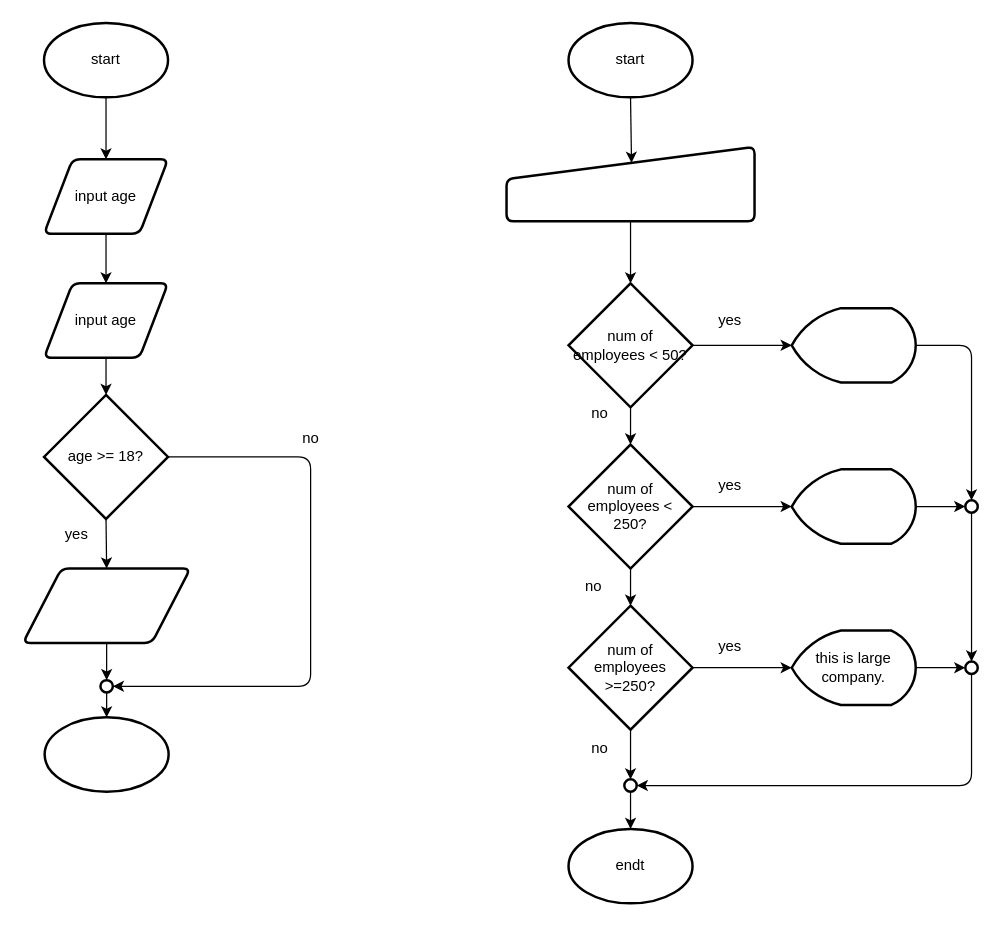
Image size: 1003x925. Some labels were removed from this diagram. Each missing label, with the centre of its shape:
"you are adult.": [106,605]
end: [106,753]
Enter the number of employeesnum_employees: [630,183]
this is medium company.: [853,505]
this is small company.: [853,344]
